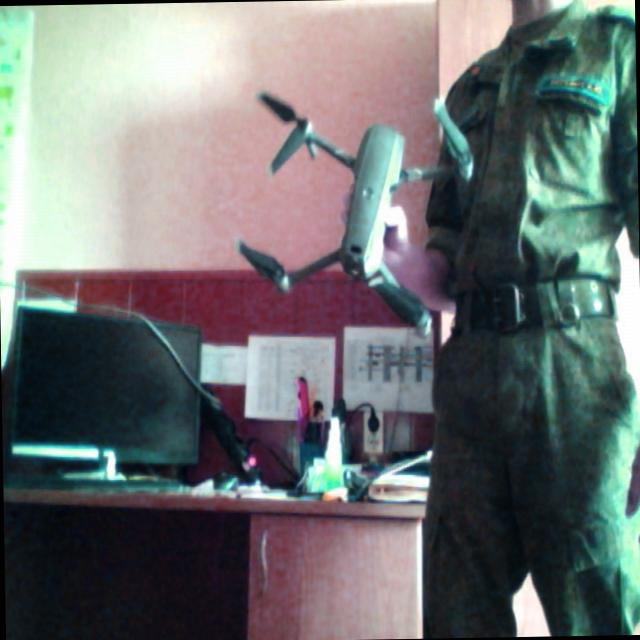drone: (253, 94, 477, 353)
